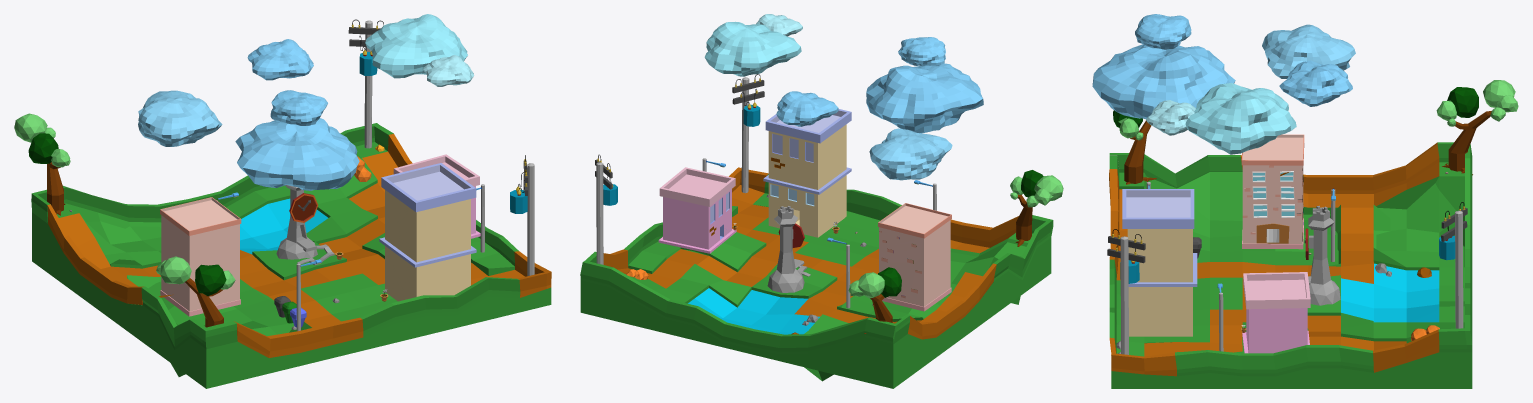
The model's file is TERRENO 2 (1).fbx.
The picture shows the model from 3 angles, left to right: view 1: azimuth 30°, elevation 25°; view 2: azimuth 150°, elevation 25°; view 3: azimuth 270°, elevation 25°; orthographic projection. The views are drawn at different scales.
Parts seen in each view (by area): view 1: GRAMA, CAMINO, TERRENO, Nube.006, Plane, Base del edificio.008, Nube.003, Nube.002, Base del edificio.009, Base del edificio.007, LAGO, Nube (+13 smaller); view 2: GRAMA, CAMINO, TERRENO, Plane, Nube.006, Base del edificio.008, Nube.003, LAGO, Base del edificio.001, Nube.002, Base del edificio.009, Base del edificio.002 (+11 smaller); view 3: GRAMA, CAMINO, TERRENO, Nube.006, Plane, Nube.003, LAGO, Base del edificio.008, Base del edificio.009, Nube.002, Base del edificio.007, Base del edificio.001 (+12 smaller).
Part boxes in pixels (<box>): GRAMA: <box>31,123,520,376</box>; CAMINO: <box>47,133,551,357</box>; TERRENO: <box>32,212,551,388</box>; Nube.006: <box>235,118,359,190</box>; Plane: <box>160,197,241,316</box>; Base del edificio.008: <box>379,190,476,267</box>; Nube.003: <box>365,14,467,78</box>; Nube.002: <box>138,90,222,146</box>; Base del edificio.009: <box>385,246,470,301</box>; Base del edificio.007: <box>381,163,476,212</box>; LAGO: <box>240,198,327,254</box>; Nube: <box>247,39,313,80</box>; GRAMA: <box>580,174,1053,381</box>; CAMINO: <box>603,167,1018,339</box>; TERRENO: <box>580,238,1051,388</box>; Plane: <box>878,203,951,311</box>; Nube.006: <box>866,63,983,133</box>; Base del edificio.008: <box>763,124,851,194</box>; Nube.003: <box>704,21,801,76</box>; LAGO: <box>688,288,819,334</box>; Base del edificio.001: <box>658,189,736,253</box>; Nube.002: <box>869,128,952,180</box>; Base del edificio.009: <box>768,175,846,237</box>; Base del edificio.002: <box>659,167,735,206</box>; GRAMA: <box>1109,142,1472,376</box>; CAMINO: <box>1109,142,1439,376</box>; TERRENO: <box>1111,176,1472,388</box>; Nube.006: <box>1092,44,1235,118</box>; Plane: <box>1241,134,1304,249</box>; Nube.003: <box>1185,83,1296,154</box>; LAGO: <box>1341,263,1439,322</box>; Base del edificio.008: <box>1127,229,1197,286</box>; Base del edificio.009: <box>1128,287,1192,336</box>; Nube.002: <box>1262,24,1355,78</box>; Base del edificio.007: <box>1122,189,1194,228</box>; Base del edificio.001: <box>1242,308,1309,353</box>.
Bounding box in the file's own units: 875 × 630 × 832.
